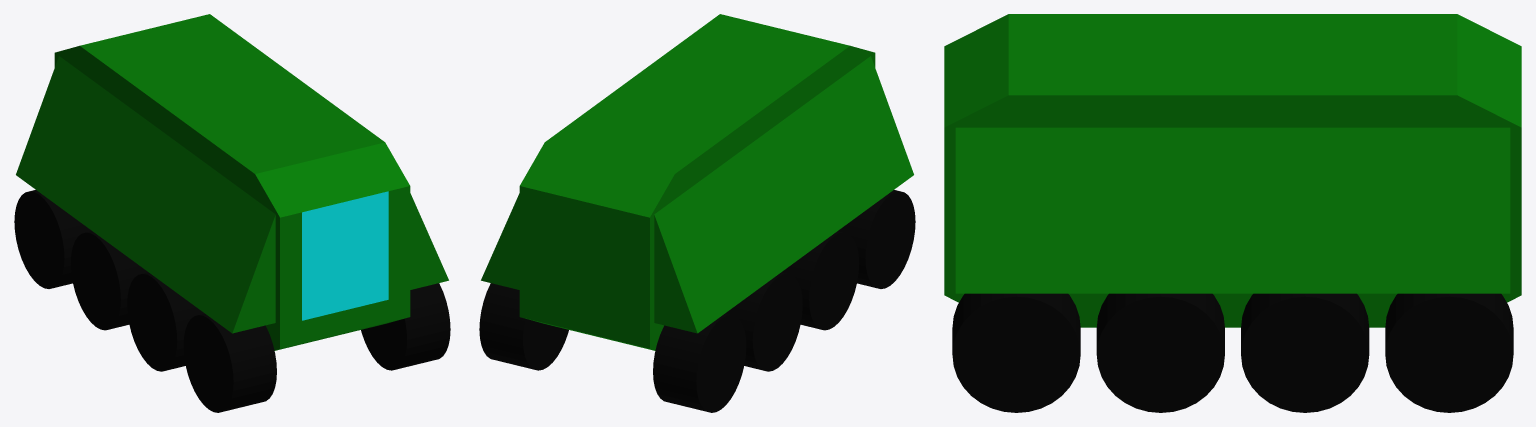
Rendered from HeavyGround.fbx.
The picture shows the model from 3 angles, left to right: view 1: azimuth 30°, elevation 25°; view 2: azimuth 150°, elevation 25°; view 3: azimuth 270°, elevation 25°; orthographic projection. The views are drawn at different scales.
Visible parts, largest first — view 1: Cylinder.003; view 2: Cylinder.003; view 3: Cylinder.003.
Boxes of the visible parts, <box> form: Cylinder.003: <box>14,14,450,412</box>; Cylinder.003: <box>479,14,915,412</box>; Cylinder.003: <box>944,14,1521,412</box>.
Bounding box in the file's own units: 125 × 125 × 225.
